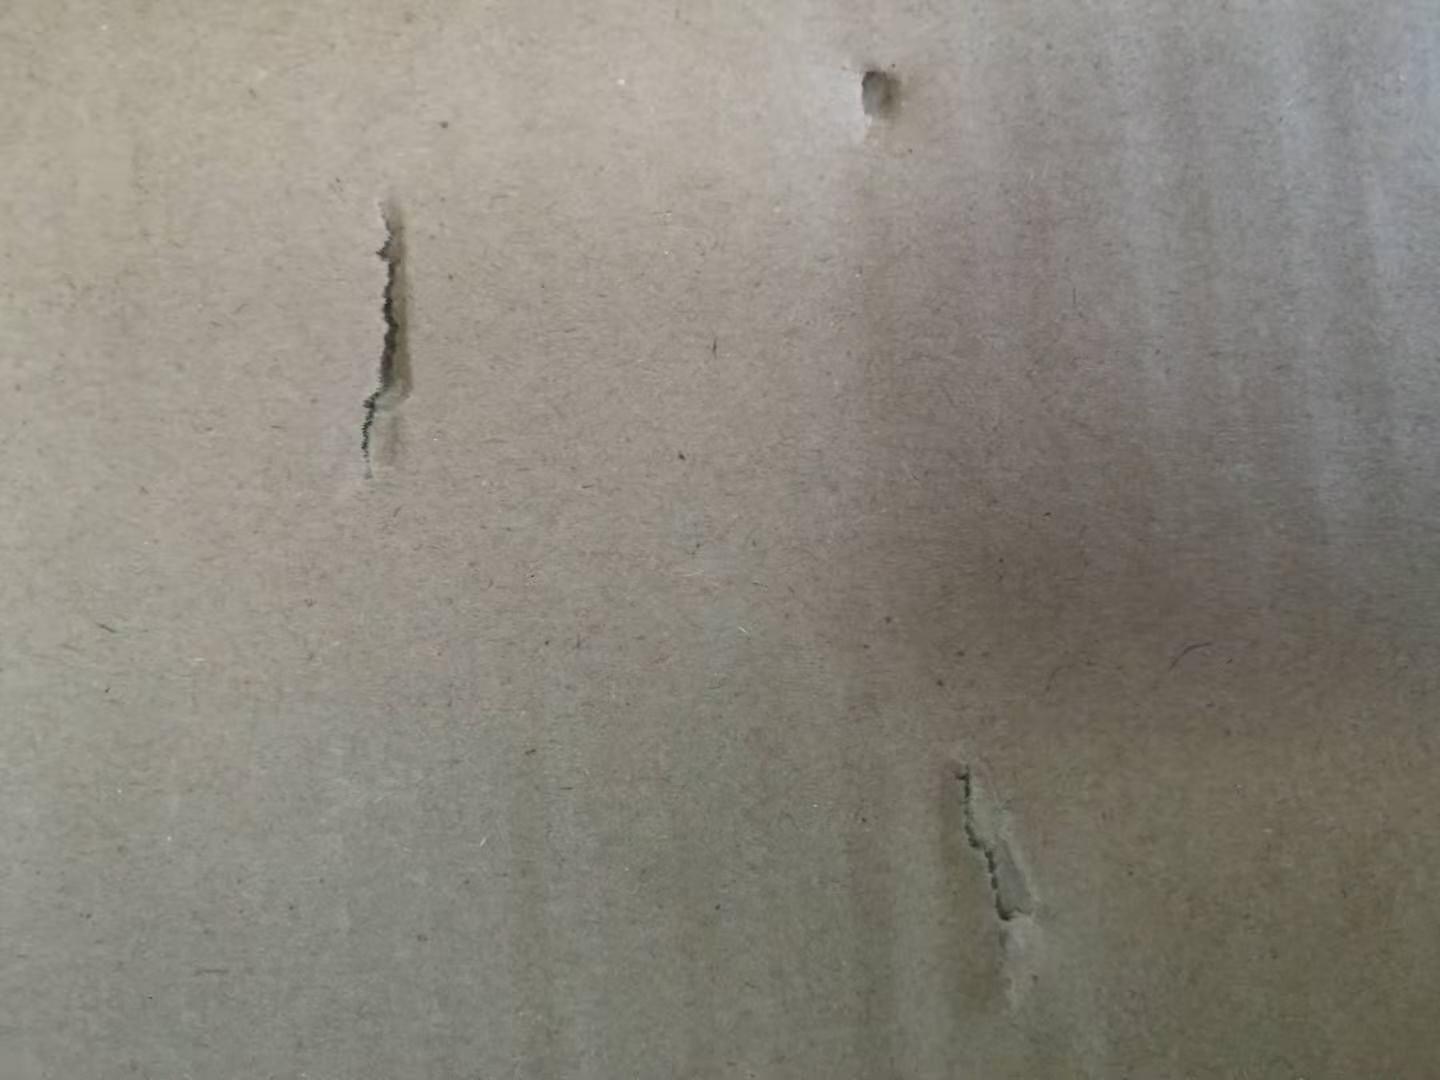defect: (887, 726, 1079, 1035), (311, 171, 464, 509), (818, 32, 956, 162)
